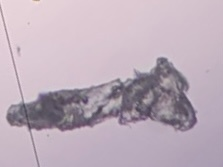microplastic: (8, 57, 203, 141)
